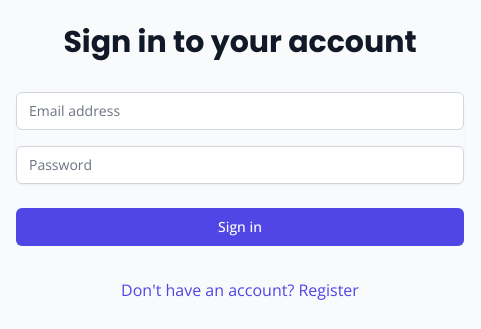
Test: Login Component › validates password is required
Type "test@example.com" into the field with placeholder "Email address". click: coordinates (240, 111)
box: [16, 92, 464, 130]
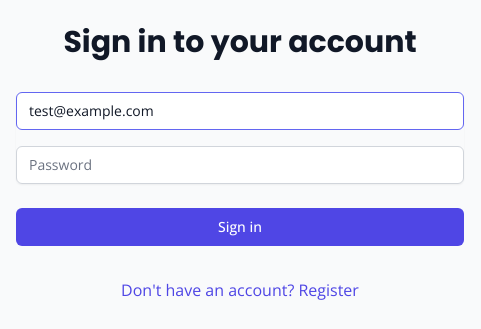
Click the button "Sign in". click: coordinates (240, 227)
box: [16, 208, 464, 246]
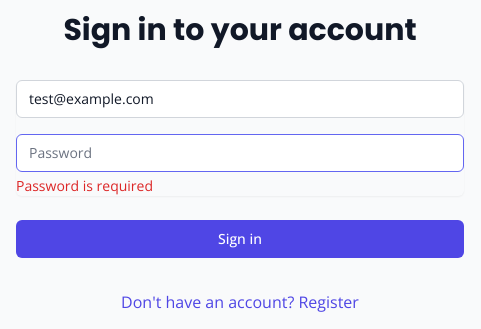
Expected: the text "Password is required" is shown, [16, 176, 153, 195]
